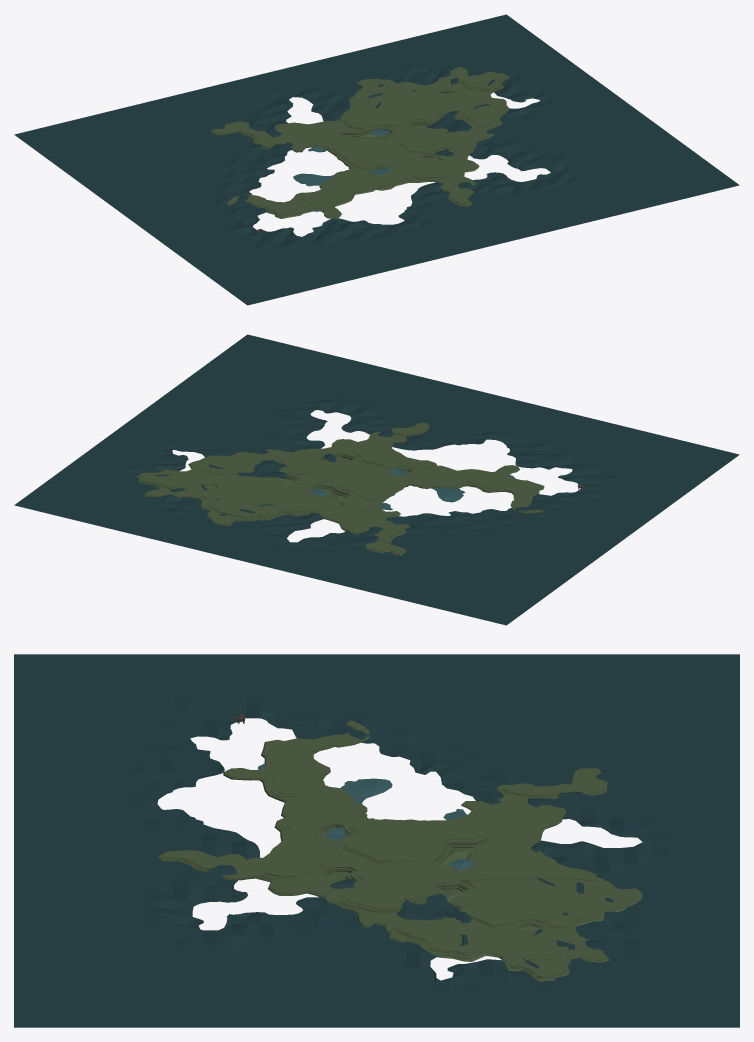
Rendered from Bog_Layout.FBX.
3 views of the same model, one above another, from view 1: azimuth 30°, elevation 25°; view 2: azimuth 150°, elevation 25°; view 3: azimuth 270°, elevation 25° (orthographic). The views are drawn at different scales.
Parts seen in each view (by area): view 1: OuterSwamp, Land, Innerswamp; view 2: OuterSwamp, Land, Innerswamp; view 3: OuterSwamp, Land, Innerswamp.
Part boxes in pixels (x1=…): OuterSwamp: x1=14, y1=14, x2=739, y2=305; Land: x1=210, y1=66, x2=509, y2=218; Innerswamp: x1=293, y1=129, x2=393, y2=211; OuterSwamp: x1=14, y1=334, x2=739, y2=625; Land: x1=136, y1=423, x2=544, y2=555; Innerswamp: x1=311, y1=468, x2=515, y2=510; OuterSwamp: x1=14, y1=654, x2=739, y2=1027; Land: x1=157, y1=720, x2=642, y2=981; Innerswamp: x1=258, y1=763, x2=474, y2=870.
Bounding box in the file's own units: 1542 × 14.74 × 1266.
